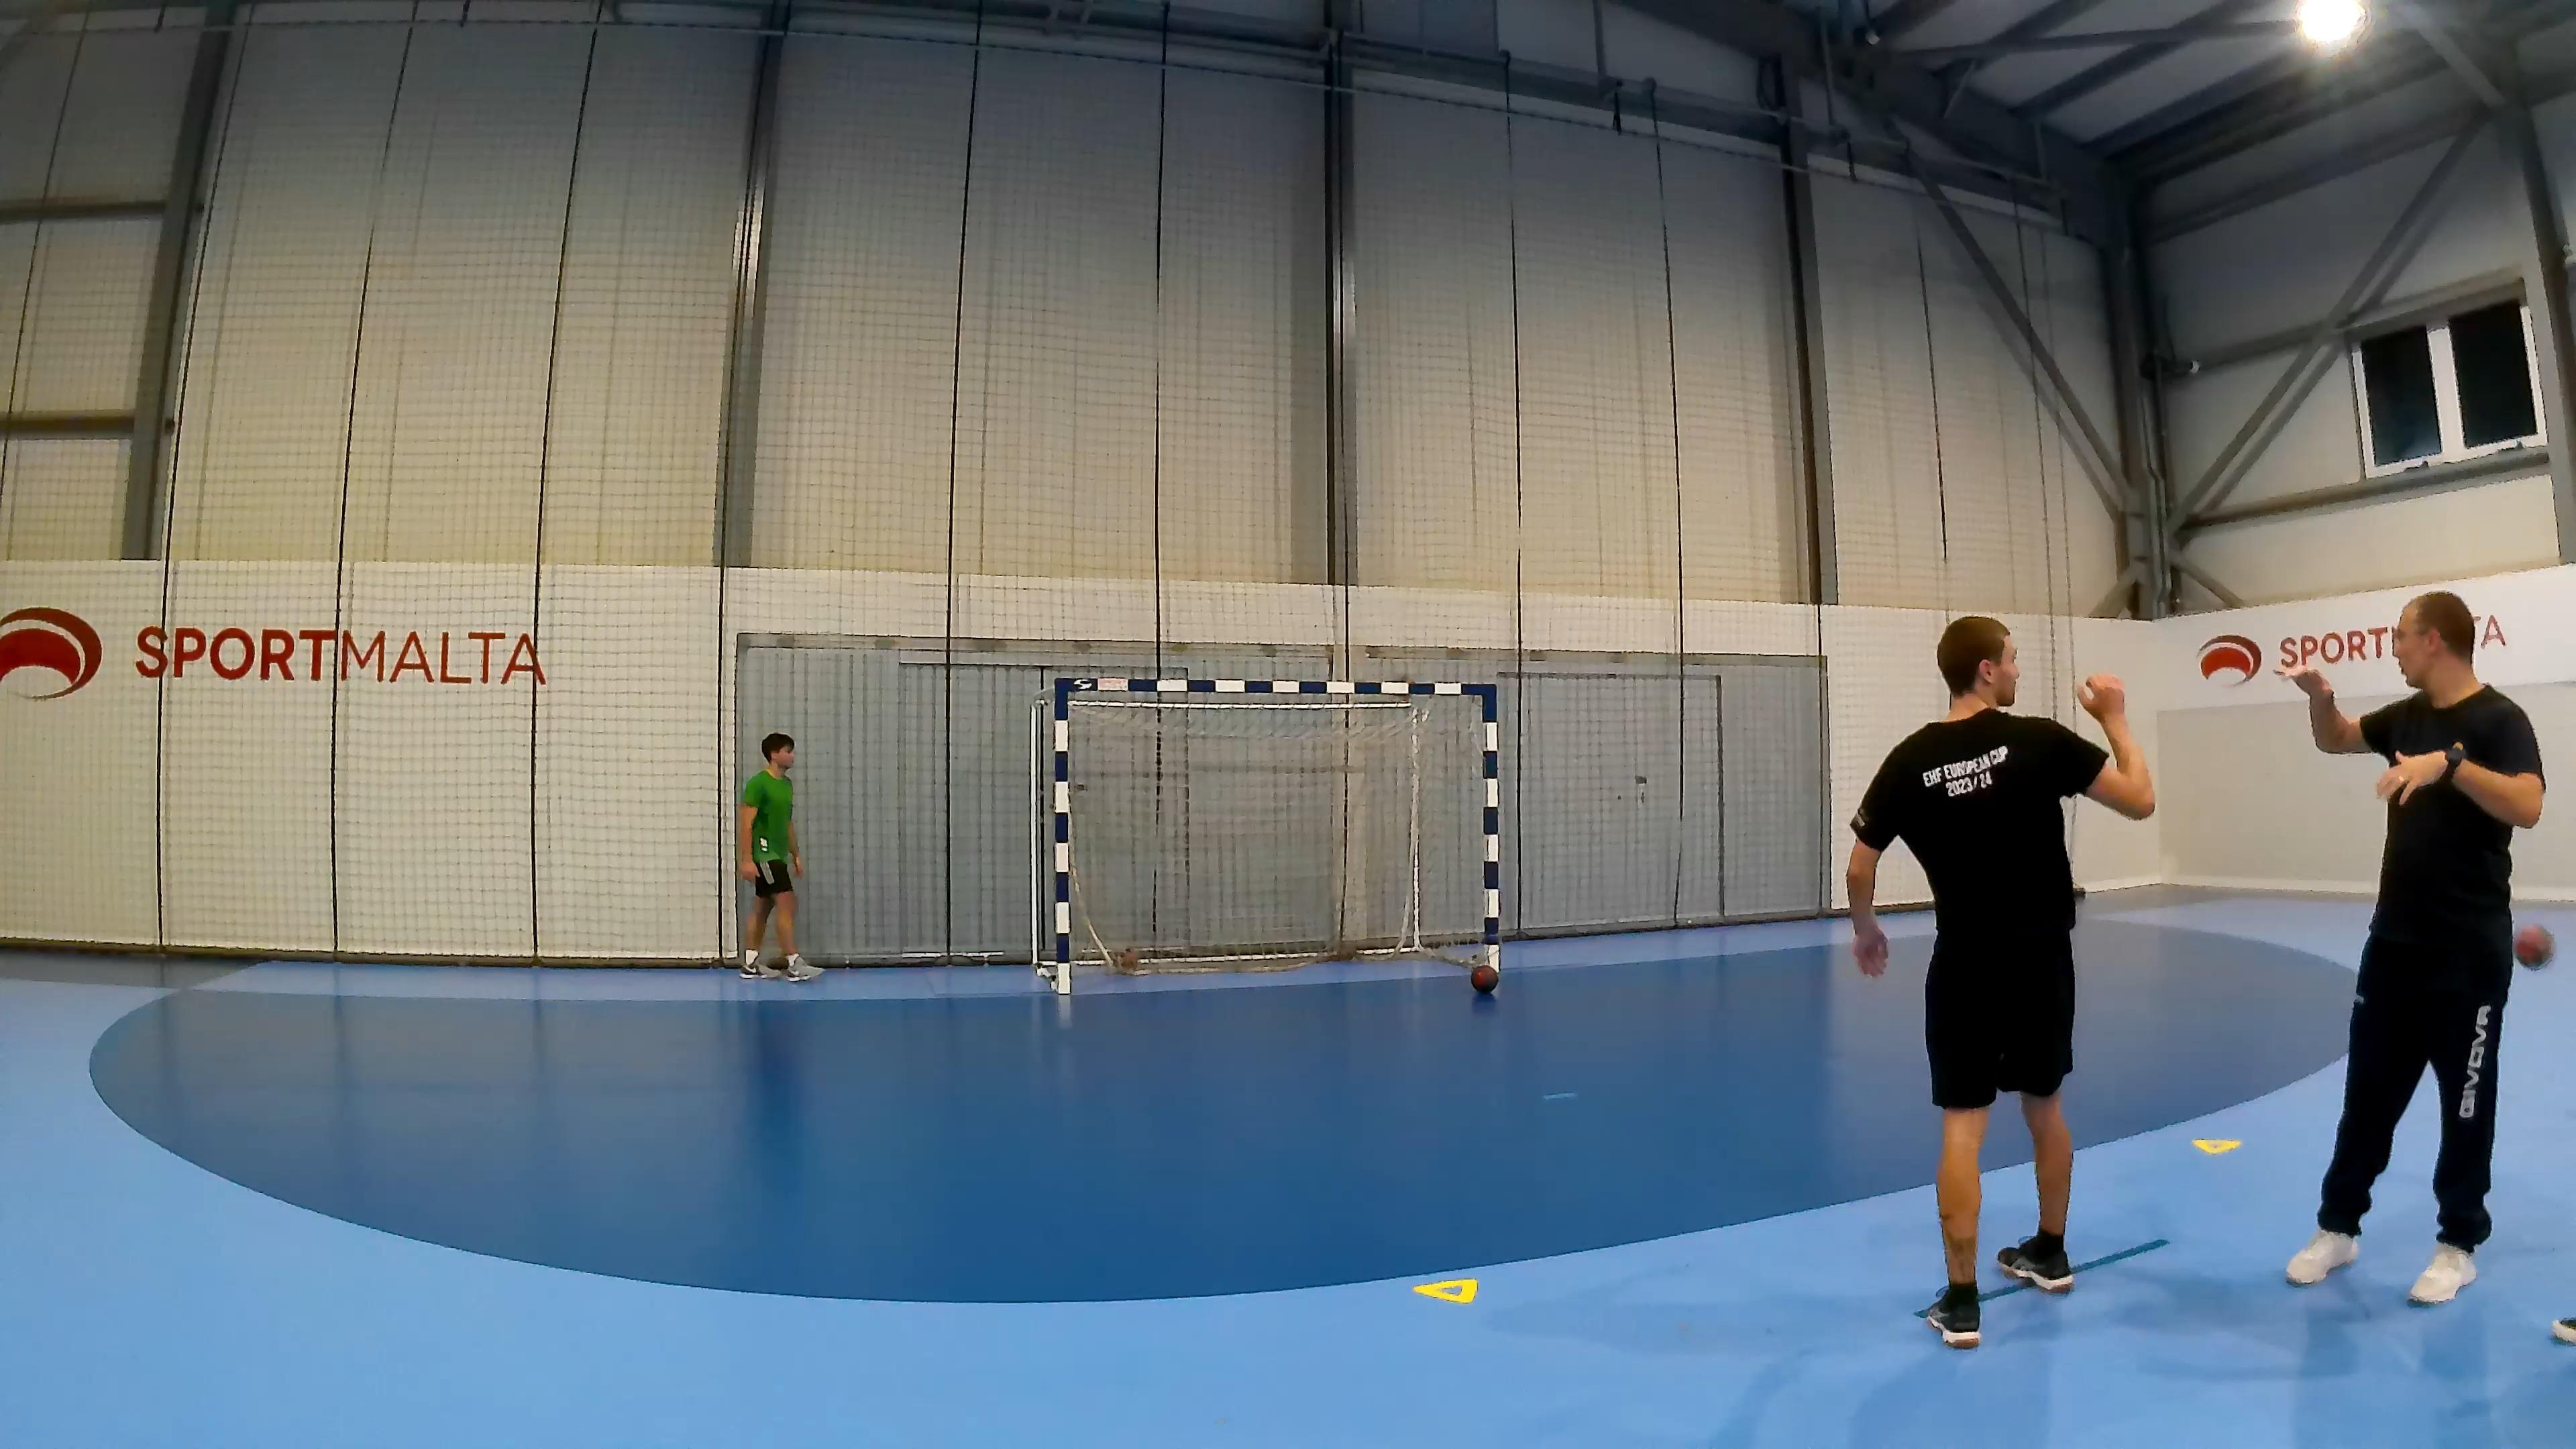handball: (2514, 922, 2553, 970), (1468, 962, 1499, 991)
